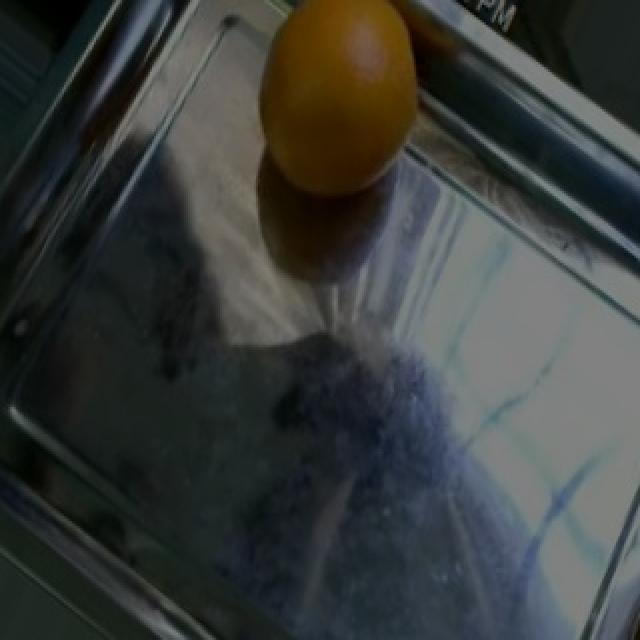Fruit: (228, 0, 440, 226)
